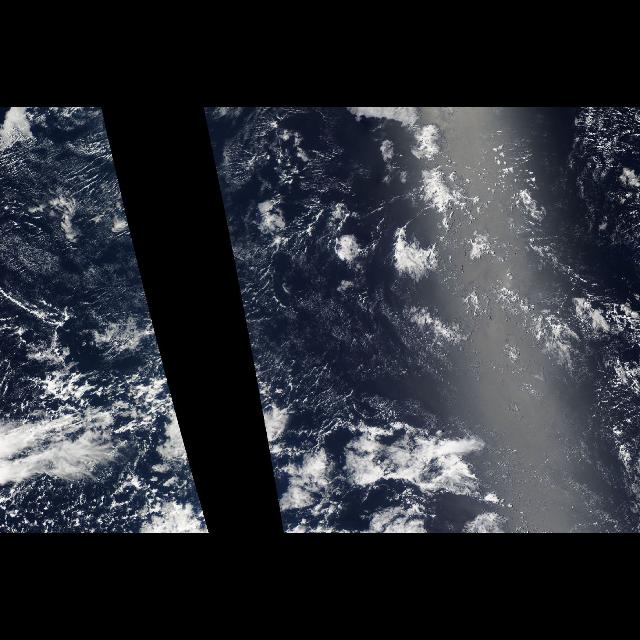Gravel: (238, 114, 636, 416)
Sugar: (237, 280, 407, 404)
